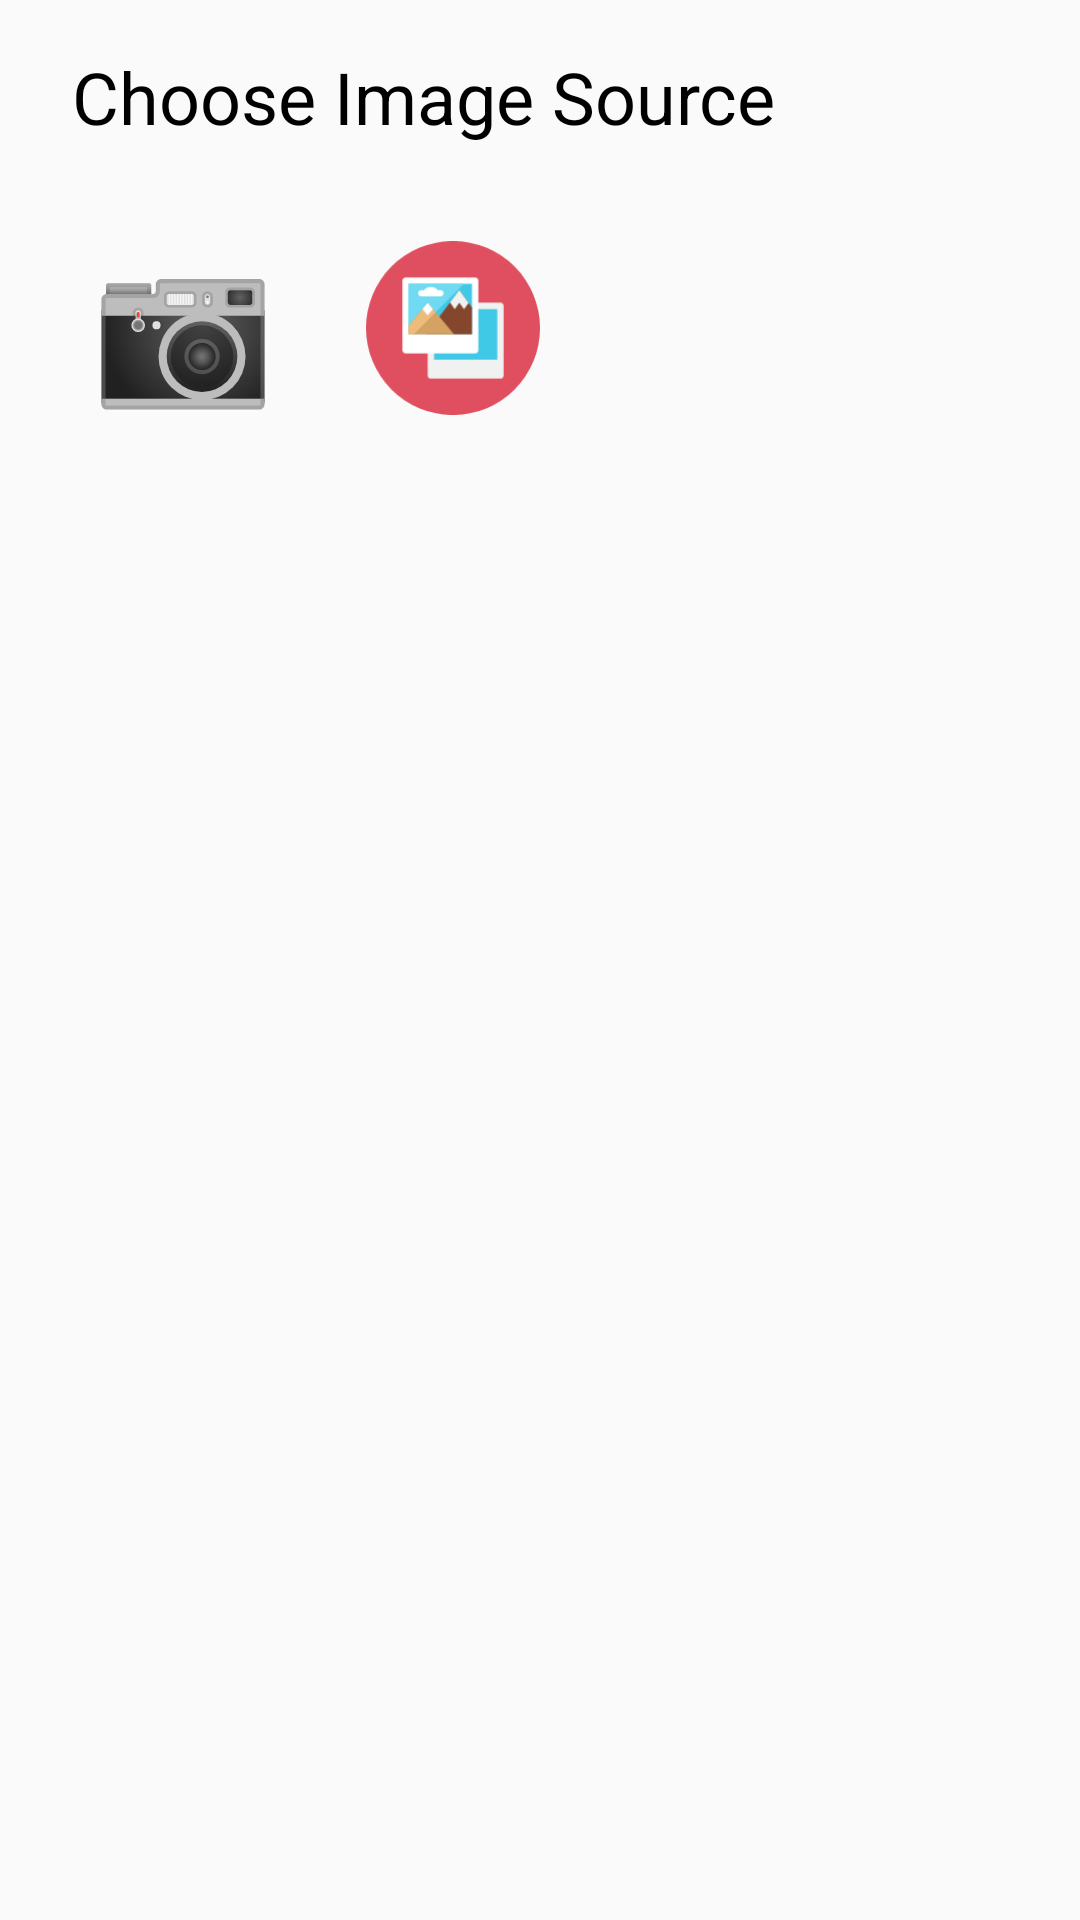

Screen size 1080px×1920px. Icon name, then its center in pixels as (x,y):
camera: (183,344)
gallery: (453,328)
